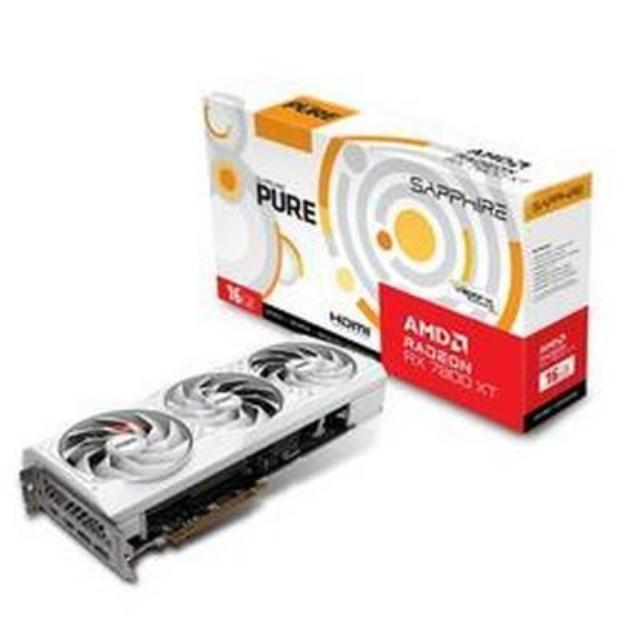GPU: (11, 332, 396, 562)
